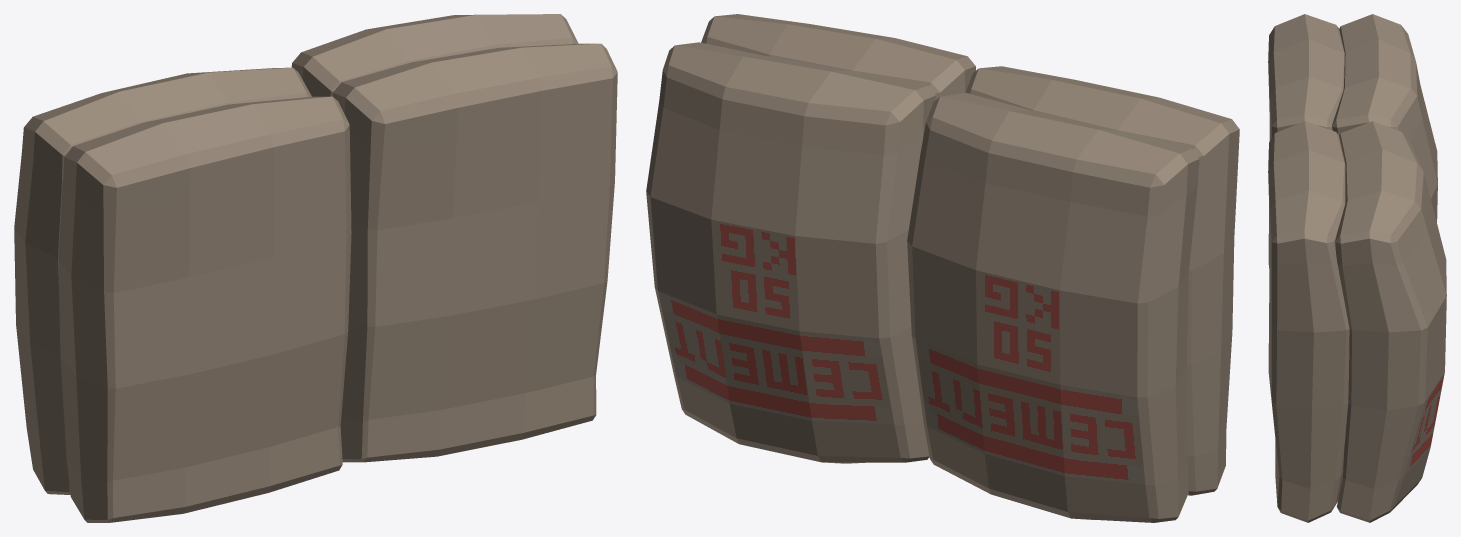
Rendered from Concrete_Bag_Pile.fbx.
3 views of the same model, side by side, from view 1: azimuth 30°, elevation 25°; view 2: azimuth 150°, elevation 25°; view 3: azimuth 270°, elevation 25° (orthographic). The views are drawn at different scales.
Parts seen in each view (by area): view 1: Concrete_Bag_Pile; view 2: Concrete_Bag_Pile; view 3: Concrete_Bag_Pile.
Part boxes in pixels (<box>): Concrete_Bag_Pile: <box>14,14,617,522</box>; Concrete_Bag_Pile: <box>646,14,1239,522</box>; Concrete_Bag_Pile: <box>1268,14,1446,522</box>.
Size of the model in its own units: 1.07 by 0.7708 by 0.3847.
